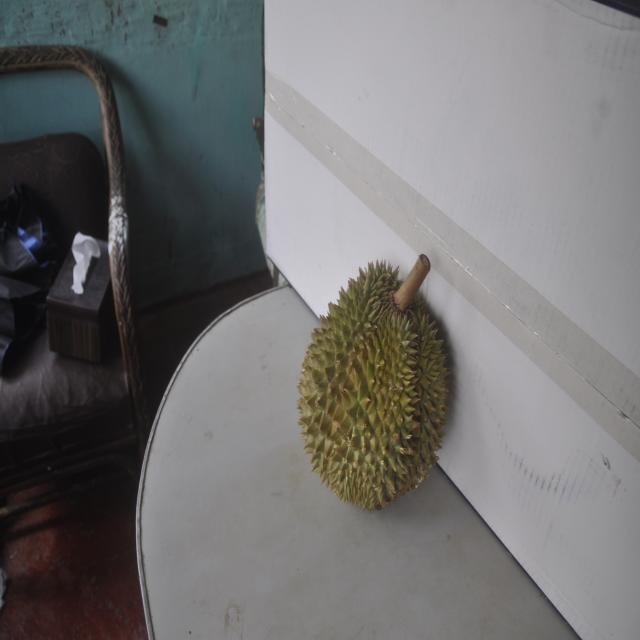mature: (299, 254, 450, 511)
